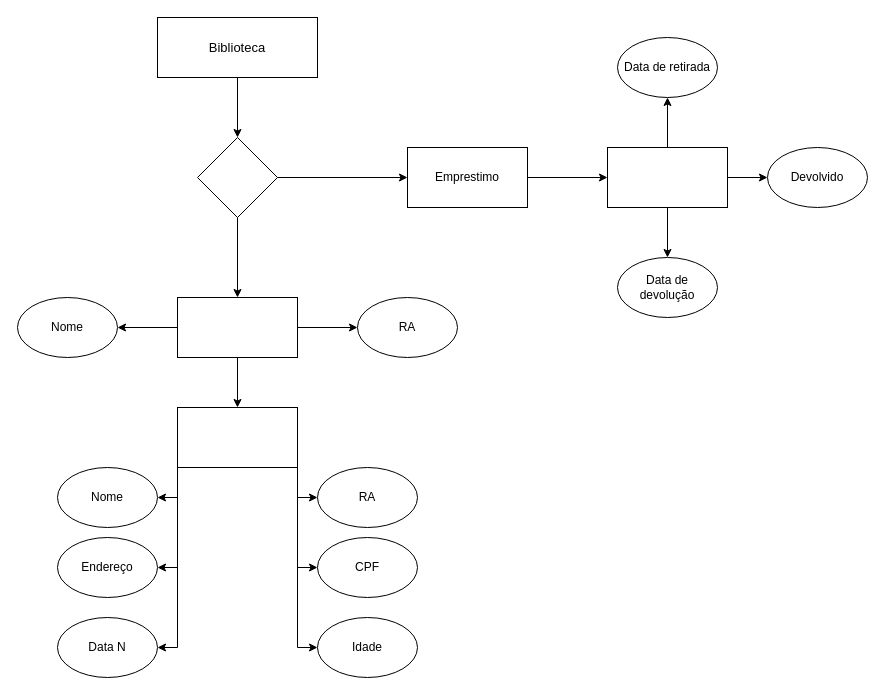
This 885x695 diagram has some shape labels left out. The shapes that lost their labels are listed below. From the top down, each one's centre as x and y in pixels, then its label:
At (x=237, y=177): "Empresta".
At (x=667, y=177): "Status".
At (x=237, y=327): "Livros".
At (x=237, y=437): "Aluno".
